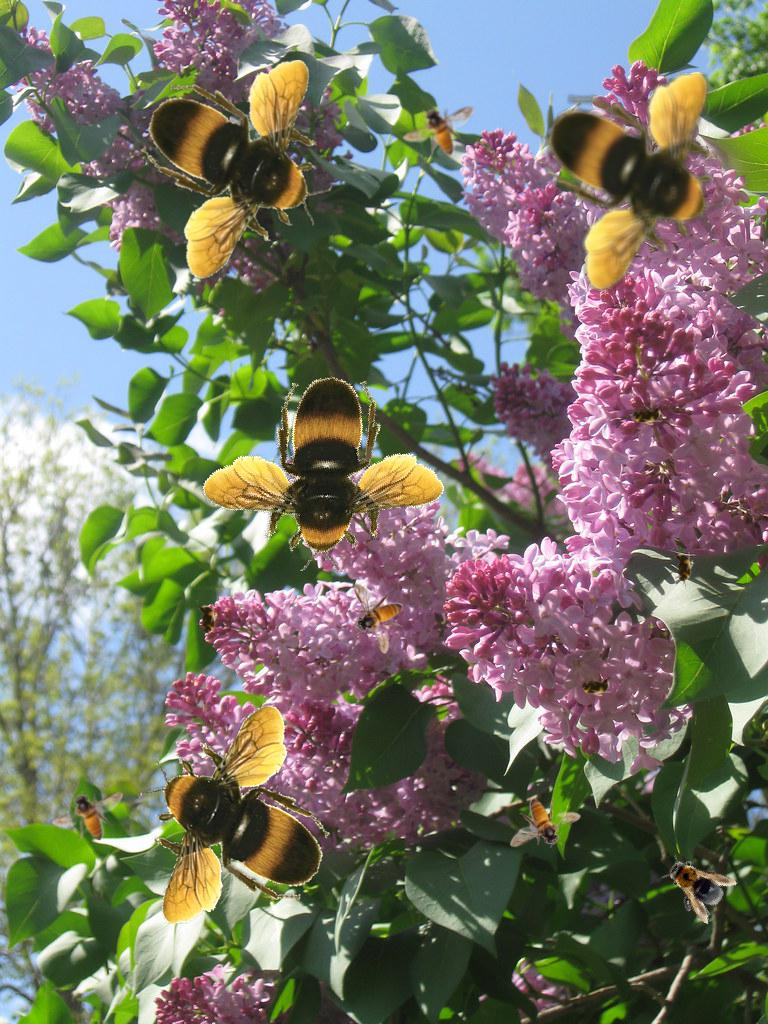Bee: (176, 343, 458, 612), (540, 72, 731, 292), (141, 60, 332, 280), (139, 704, 330, 924), (652, 844, 738, 926), (403, 106, 474, 156), (52, 791, 123, 841), (353, 583, 403, 654), (510, 798, 581, 848), (626, 404, 666, 426), (575, 675, 615, 697), (196, 600, 218, 640), (672, 548, 694, 588)
